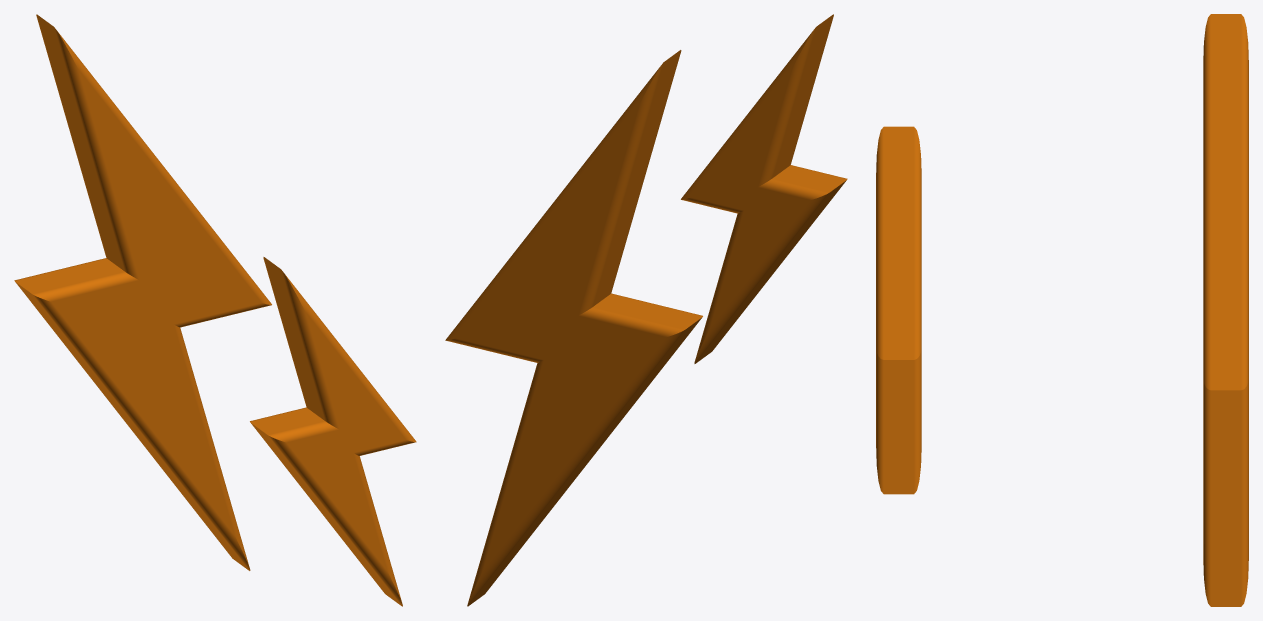
Rendered from FG_BoltEdge.obj.
3 renders of one model, left to right at view 1: azimuth 30°, elevation 25°; view 2: azimuth 150°, elevation 25°; view 3: azimuth 270°, elevation 25°, orthographic. The views are drawn at different scales.
Visible parts, largest first — view 1: FG_BoltEdge; view 2: FG_BoltEdge; view 3: FG_BoltEdge.
Boxes of the visible parts, bbox=[...] form: FG_BoltEdge: bbox=[14, 14, 416, 606]; FG_BoltEdge: bbox=[445, 14, 847, 606]; FG_BoltEdge: bbox=[876, 14, 1248, 606].
Bounding box in the file's own units: 2.2 × 5.2 × 3.44.
